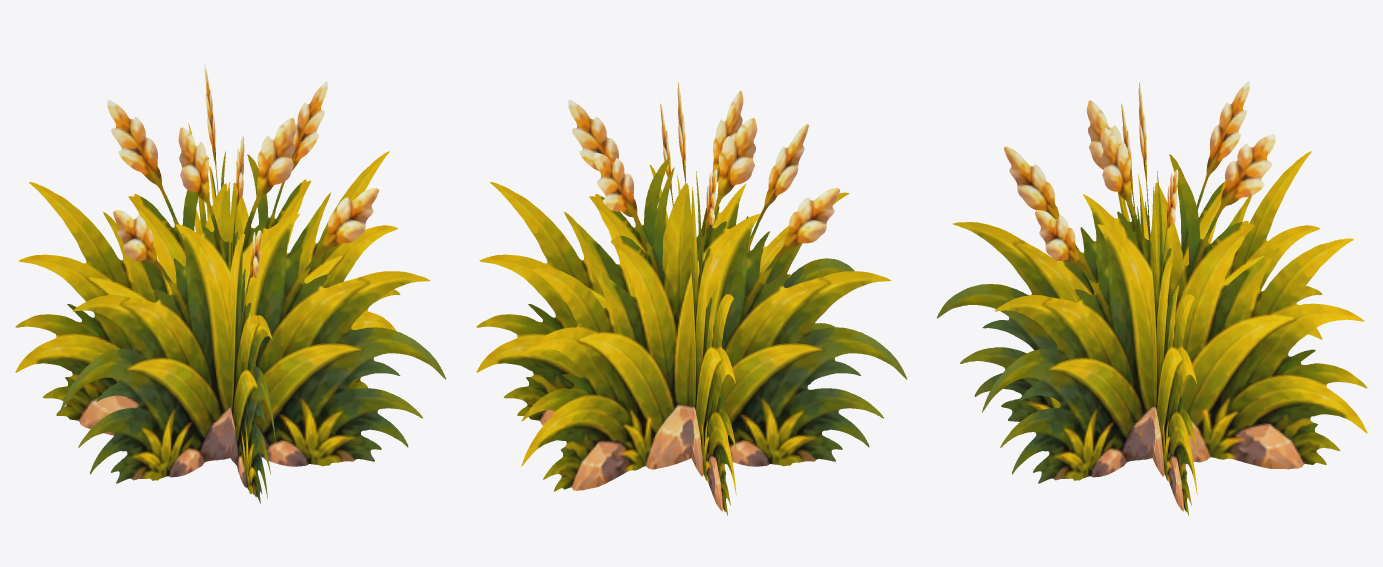
Rendered from Grass2.fbx.
3 views of the same model, side by side, from view 1: azimuth 30°, elevation 25°; view 2: azimuth 150°, elevation 25°; view 3: azimuth 270°, elevation 25° (orthographic).
Parts seen in each view (by area): view 1: Grass2_Body; view 2: Grass2_Body; view 3: Grass2_Body.
Boxes of the visible parts, x1,y1,x2,y2 form: Grass2_Body: [15, 64, 446, 503]; Grass2_Body: [476, 82, 907, 515]; Grass2_Body: [936, 81, 1367, 515].
Size of the model in its own units: 0.7056 by 0.6094 by 0.6826.
1 material, 1 textured.
